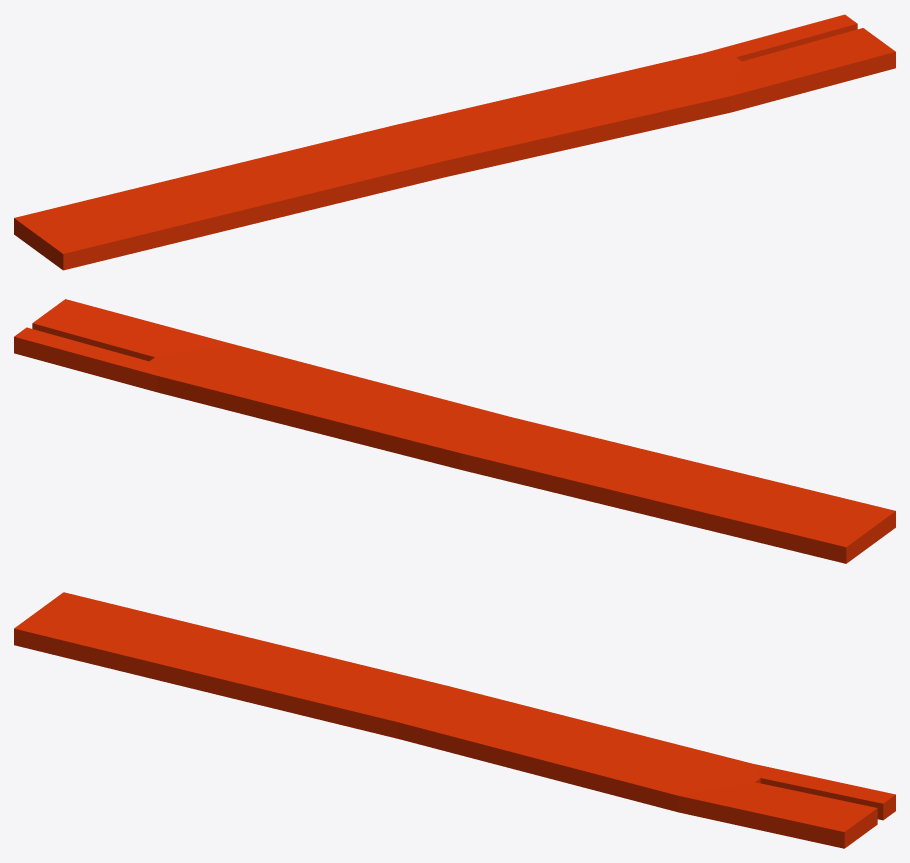
File: Board_02.fbx
The picture shows the model from 3 angles, top to bottom: view 1: azimuth 30°, elevation 25°; view 2: azimuth 150°, elevation 25°; view 3: azimuth 330°, elevation 25°; orthographic projection.
Visible parts, largest first — view 1: Board_02; view 2: Board_02; view 3: Board_02.
Boxes of the visible parts, <box> form: Board_02: <box>14,14,895,270</box>; Board_02: <box>14,299,895,563</box>; Board_02: <box>14,592,895,848</box>.
Bounding box in the file's own units: 215 × 5.11 × 24.52.
